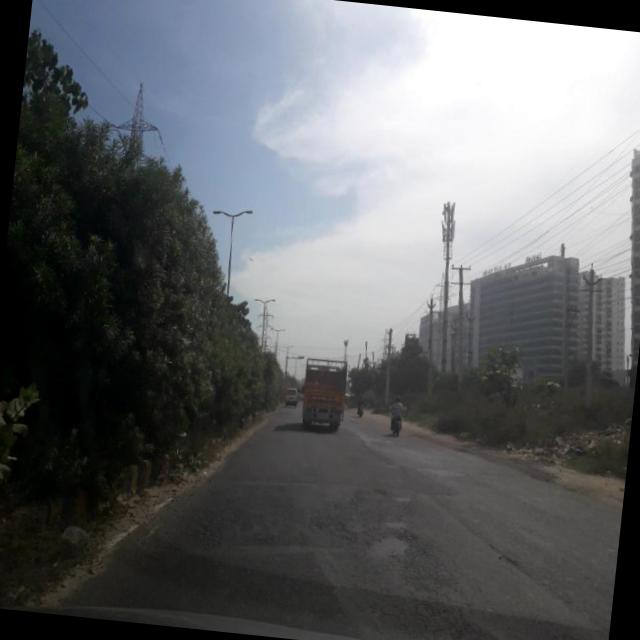crack: (139, 437, 598, 640)
pothole: (425, 496, 576, 596)
